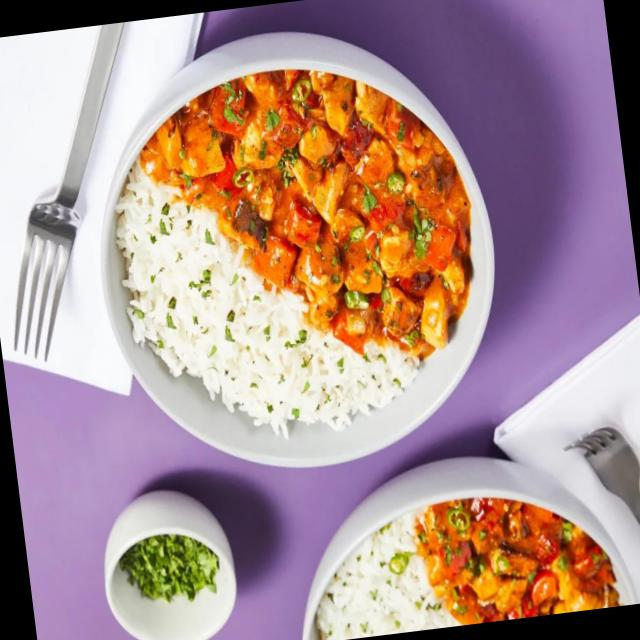chicken: (195, 11, 502, 326), (430, 479, 622, 627)
rice: (95, 250, 442, 457), (306, 512, 444, 638)
